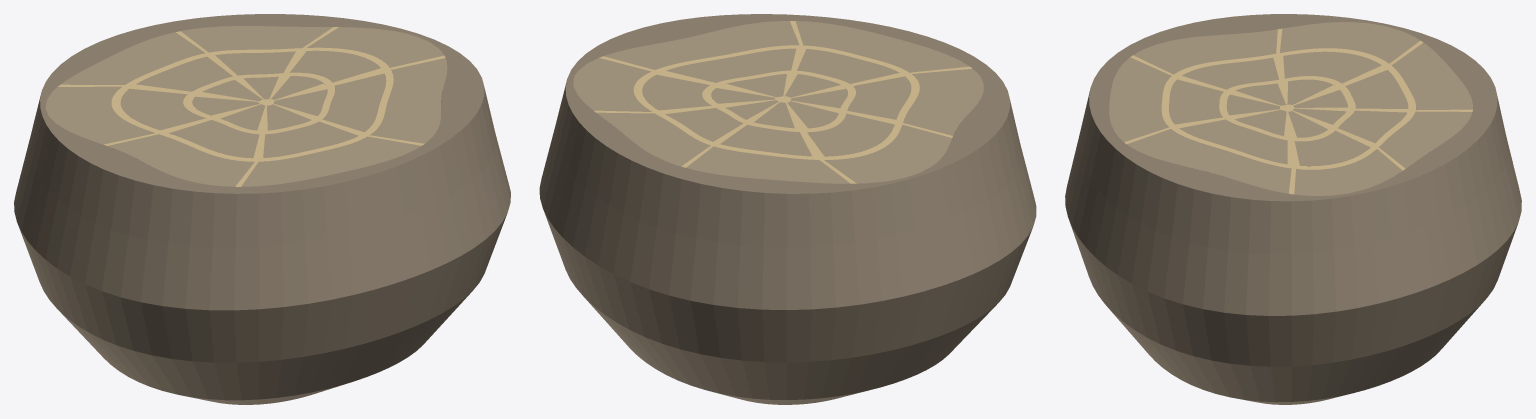
File: septarian-concretion.glb
3 renders of one model, left to right at view 1: azimuth 30°, elevation 25°; view 2: azimuth 150°, elevation 25°; view 3: azimuth 270°, elevation 25°, orthographic. The views are drawn at different scales.
Parts seen in each view (by area): view 1: rounded-concretion-rind-and-lower-body, sectioned-host-rock-blocks-between-internal-veins, volumetric-radial-and-concentric-mineral-cement; view 2: rounded-concretion-rind-and-lower-body, sectioned-host-rock-blocks-between-internal-veins, volumetric-radial-and-concentric-mineral-cement; view 3: rounded-concretion-rind-and-lower-body, sectioned-host-rock-blocks-between-internal-veins, volumetric-radial-and-concentric-mineral-cement.
Boxes of the visible parts, bbox=[...] form: rounded-concretion-rind-and-lower-body: bbox=[14, 14, 510, 404]; sectioned-host-rock-blocks-between-internal-veins: bbox=[45, 26, 447, 186]; volumetric-radial-and-concentric-mineral-cement: bbox=[58, 27, 445, 186]; rounded-concretion-rind-and-lower-body: bbox=[539, 14, 1036, 404]; sectioned-host-rock-blocks-between-internal-veins: bbox=[573, 21, 983, 183]; volumetric-radial-and-concentric-mineral-cement: bbox=[594, 21, 971, 183]; rounded-concretion-rind-and-lower-body: bbox=[1065, 14, 1521, 404]; sectioned-host-rock-blocks-between-internal-veins: bbox=[1109, 22, 1472, 195]; volumetric-radial-and-concentric-mineral-cement: bbox=[1124, 28, 1472, 194].
Size of the model in its own units: 0.18 by 0.1081 by 0.1658.
